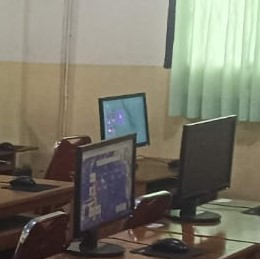monitor: (72, 133, 136, 242), (174, 115, 238, 210), (98, 92, 150, 149)
